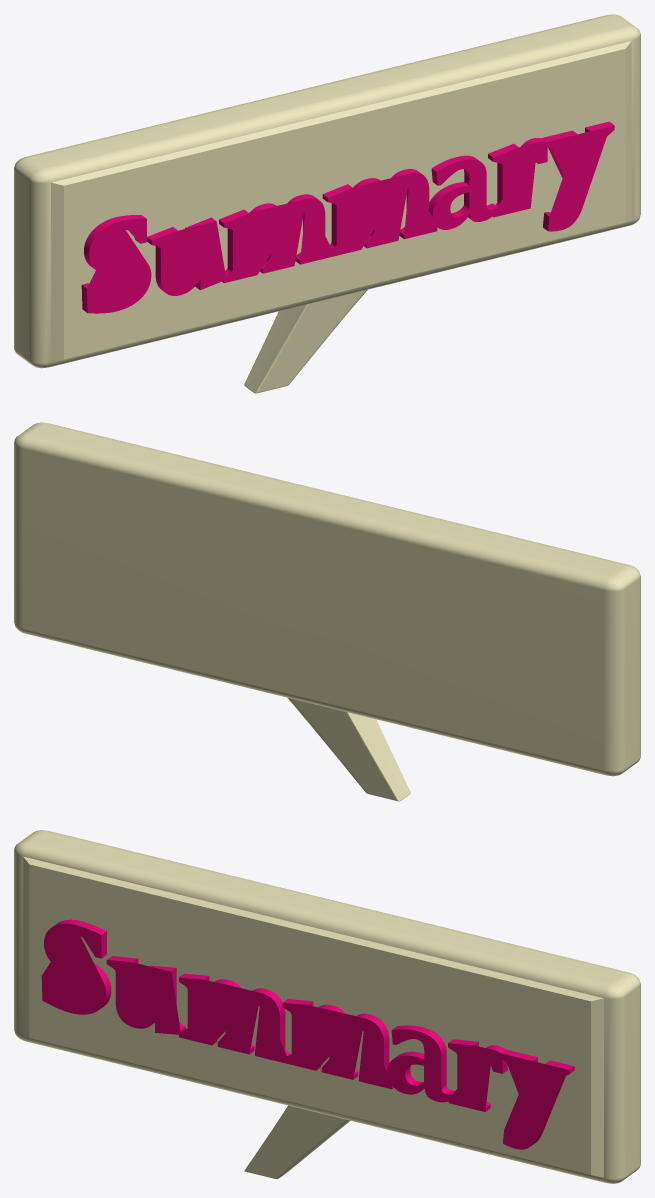
Rendered from Topic-summary.fbx.
The picture shows the model from 3 angles, top to bottom: view 1: azimuth 30°, elevation 25°; view 2: azimuth 150°, elevation 25°; view 3: azimuth 330°, elevation 25°; orthographic projection.
Visible parts, largest first — view 1: pCube2; view 2: pCube2; view 3: pCube2.
Part boxes in pixels (x1=…): pCube2: x1=14, y1=14, x2=640, y2=393; pCube2: x1=14, y1=422, x2=640, y2=801; pCube2: x1=14, y1=830, x2=640, y2=1183.
Size of the model in its own units: 11.74 by 5.13 by 1.22.
